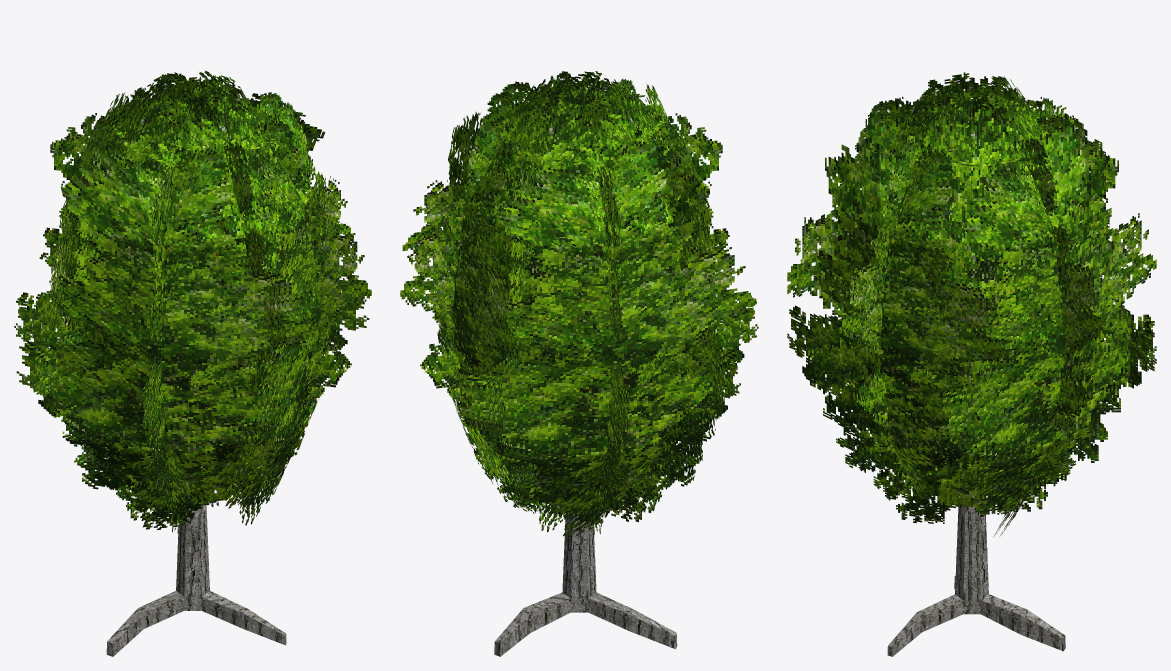
The model's file is tree02_spring.glb.
3 views of the same model, side by side, from view 1: azimuth 30°, elevation 25°; view 2: azimuth 150°, elevation 25°; view 3: azimuth 270°, elevation 25° (orthographic).
Visible parts, largest first — view 1: tree02; view 2: tree02; view 3: tree02.
Part boxes in pixels (x1=…): tree02: x1=14, y1=70, x2=371, y2=656; tree02: x1=400, y1=71, x2=758, y2=656; tree02: x1=787, y1=72, x2=1156, y2=656.
Bounding box in the file's own units: 4.8 × 7.75 × 4.8.
Materials: 1 (1 with a texture image).
